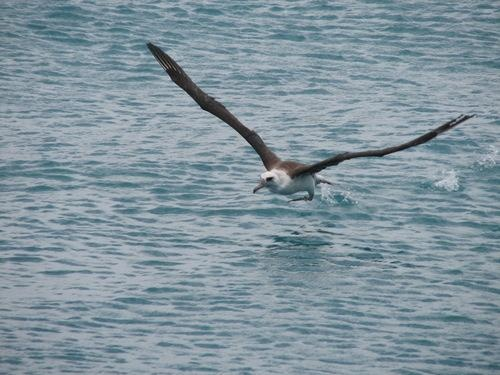bird: (145, 42, 476, 204)
